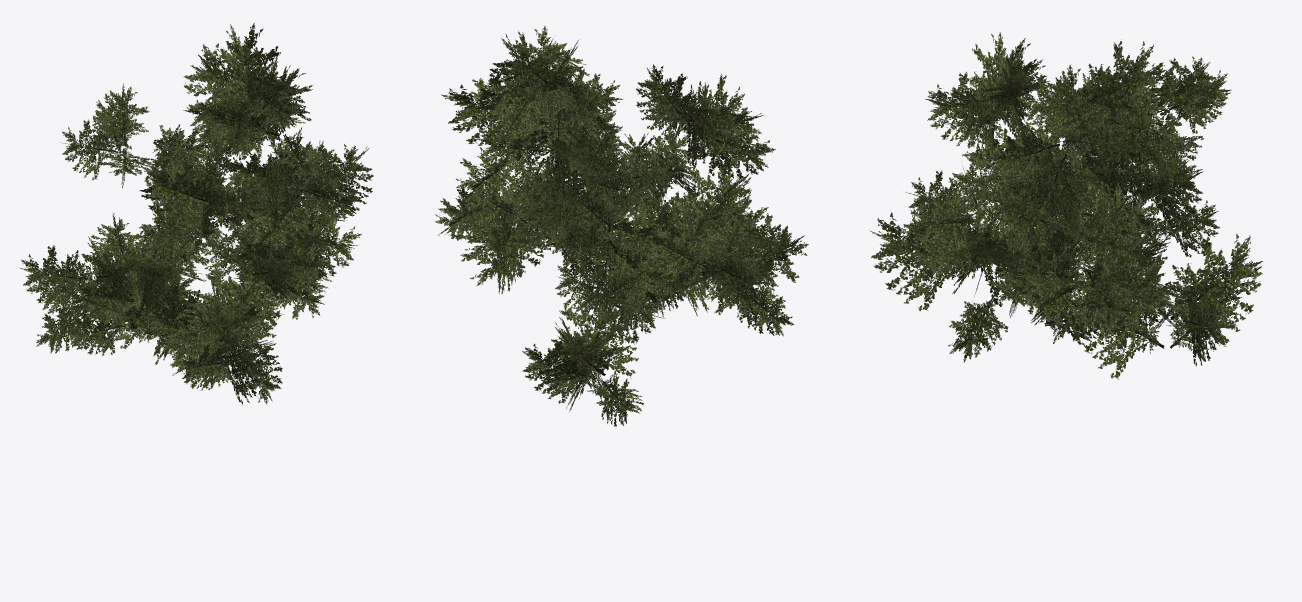
File: Tree.dae
The picture shows the model from 3 angles, left to right: view 1: azimuth 30°, elevation 25°; view 2: azimuth 150°, elevation 25°; view 3: azimuth 270°, elevation 25°; orthographic projection. The views are drawn at different scales.
Parts seen in each view (by area): view 1: Tree; view 2: Tree; view 3: Tree.
Boxes of the visible parts, x1,y1,x2,y2 form: Tree: (19, 23, 373, 404); Tree: (435, 25, 808, 426); Tree: (869, 32, 1263, 379).
Size of the model in its own units: 10.21 by 14.97 by 10.14.
Materials: 1 (1 with a texture image).
